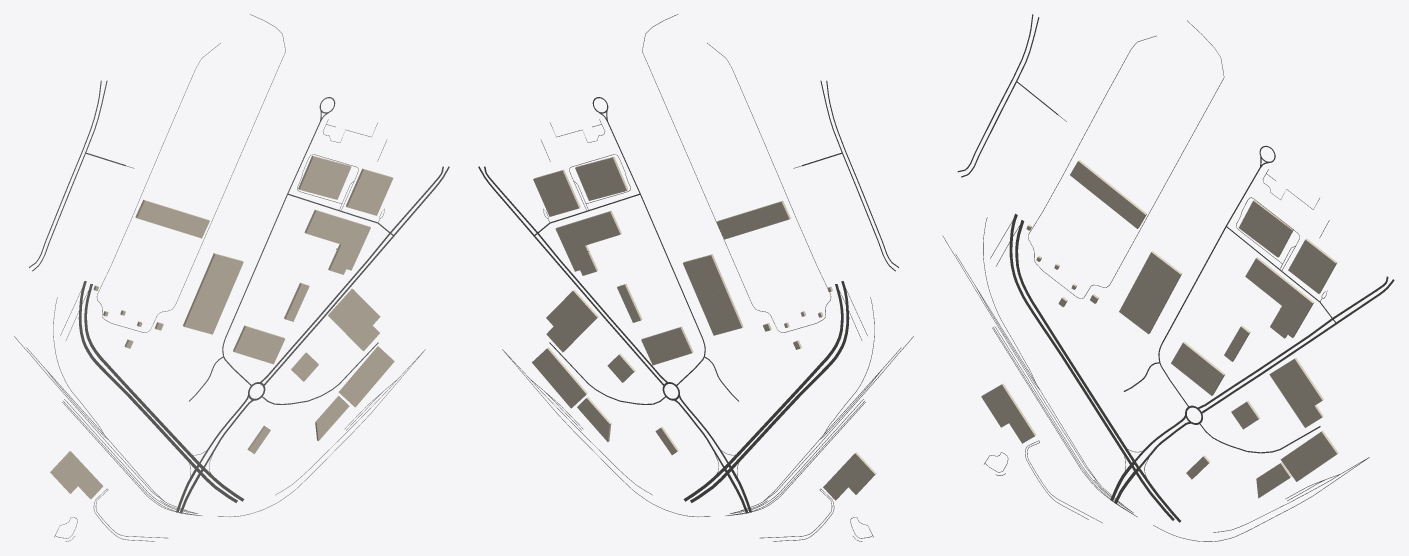
File: historic-palestine-05_24_3466_3183.glb
3 renders of one model, left to right at view 1: azimuth 30°, elevation 25°; view 2: azimuth 150°, elevation 25°; view 3: azimuth 330°, elevation 25°, orthographic. The views are drawn at different scales.
Parts seen in each view (by area): view 1: Building_.012, Building_.007, Building_.011, Building_.004, Building_.014, Building_.015, Building_.006, Building_.010, Building_.013, Road החשמל.002, Road החשמל, Road .038 (+3 smaller); view 2: Building_.012, Building_.007, Building_.011, Building_.004, Building_.014, Building_.015, Building_.006, Building_.010, Building_.013, Road החשמל.002, Road החשמל, Road .038 (+3 smaller); view 3: Building_.012, Building_.007, Building_.011, Building_.004, Building_.014, Building_.006, Building_.015, Building_.013, Building_.010, Road החשמל.002, Road החשמל, Road .038 (+3 smaller).
Part boxes in pixels (x1=…): Building_.012: x1=183, y1=253, x2=243, y2=334; Building_.007: x1=304, y1=209, x2=370, y2=274; Building_.011: x1=328, y1=288, x2=380, y2=351; Building_.004: x1=298, y1=155, x2=351, y2=199; Building_.014: x1=135, y1=199, x2=209, y2=238; Building_.015: x1=338, y1=346, x2=394, y2=407; Building_.006: x1=346, y1=168, x2=393, y2=215; Building_.010: x1=233, y1=325, x2=284, y2=364; Building_.013: x1=50, y1=451, x2=103, y2=499; Road החשמל.002: x1=84, y1=284, x2=199, y2=464; Road החשמל: x1=78, y1=281, x2=189, y2=460; Road .038: x1=96, y1=14, x2=285, y2=332; Building_.012: x1=683, y1=254, x2=743, y2=335; Building_.007: x1=555, y1=210, x2=621, y2=275; Building_.011: x1=546, y1=289, x2=598, y2=352; Building_.004: x1=575, y1=157, x2=628, y2=200; Building_.014: x1=716, y1=201, x2=790, y2=239; Building_.015: x1=532, y1=347, x2=587, y2=408; Building_.006: x1=533, y1=169, x2=580, y2=216; Building_.010: x1=641, y1=326, x2=693, y2=365; Building_.013: x1=823, y1=452, x2=876, y2=500; Road החשמל.002: x1=728, y1=284, x2=843, y2=464; Road החשמל: x1=738, y1=281, x2=849, y2=460; Road .038: x1=642, y1=14, x2=831, y2=332; Building_.012: x1=1119, y1=251, x2=1182, y2=334; Building_.007: x1=1245, y1=257, x2=1314, y2=338; Building_.011: x1=1269, y1=358, x2=1323, y2=427; Building_.004: x1=1239, y1=199, x2=1293, y2=257; Building_.014: x1=1070, y1=160, x2=1146, y2=228; Building_.006: x1=1288, y1=238, x2=1337, y2=293; Building_.015: x1=1280, y1=430, x2=1338, y2=481; Building_.013: x1=981, y1=383, x2=1036, y2=443; Building_.010: x1=1171, y1=341, x2=1225, y2=395; Road החשמל.002: x1=1015, y1=220, x2=1134, y2=461; Road החשמל: x1=1009, y1=213, x2=1124, y2=452; Road .038: x1=1028, y1=20, x2=1224, y2=298.
Bounding box in the file's own units: 1264 × 1399 × 8.7.
